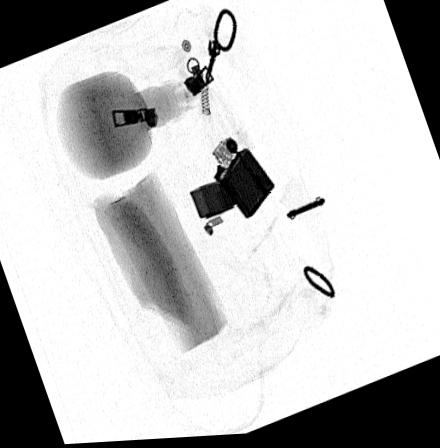Lighter: (188, 140, 275, 221)
